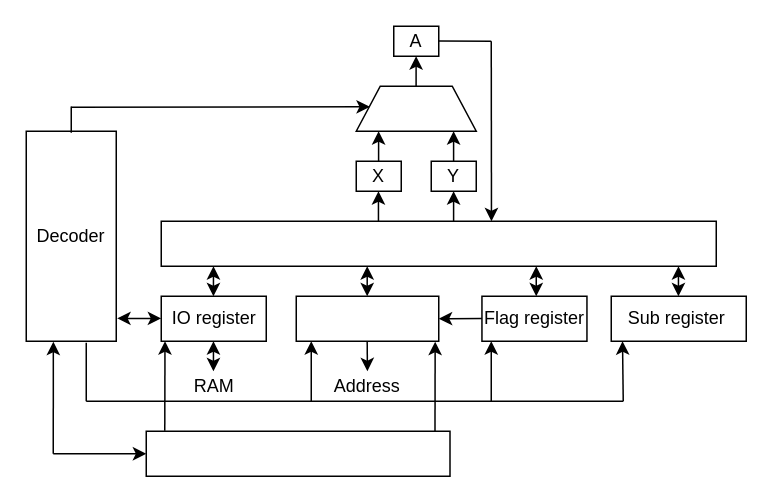
Image size: 773x503. Some labels were removed from this diagram. The shapes that lost their labels are listed below. From the top down, each one's centre as x and y in pixels, then its label:
point (415, 108): ALU
point (438, 243): data bus
point (367, 318): Program counter
point (297, 453): Control unit
